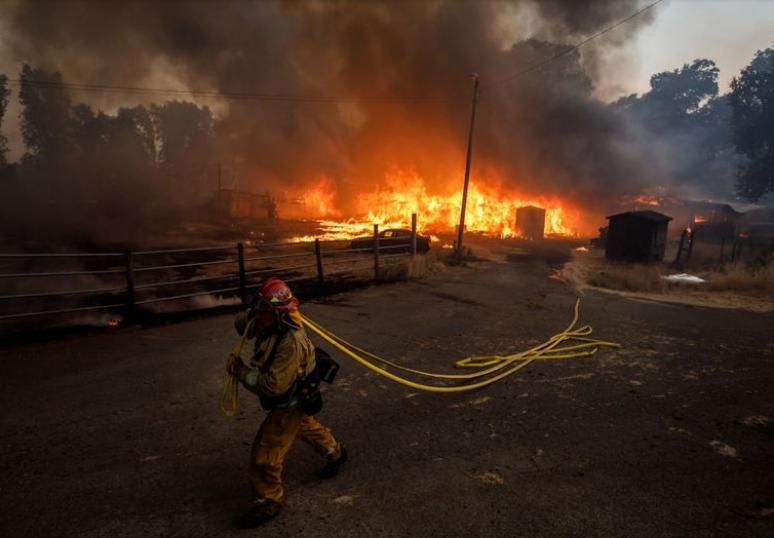fire: (268, 149, 607, 258)
